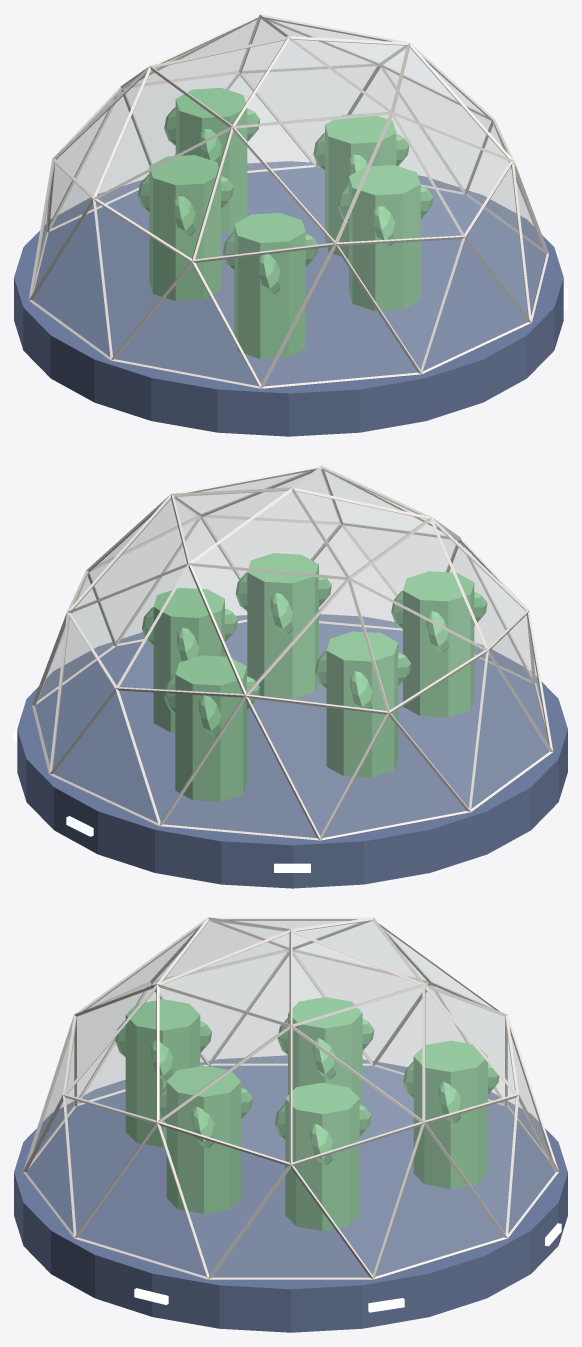
Rendered from greenhouse_module.glb.
3 views of the same model, one above another, from view 1: azimuth 30°, elevation 25°; view 2: azimuth 150°, elevation 25°; view 3: azimuth 270°, elevation 25° (orthographic).
Parts seen in each view (by area): view 1: Icosphere, Cylinder, Greenhouse_Struts, Cylinder.004, Cylinder.005, Cylinder.003, Cylinder.002, Cylinder.001, Sphere.008, Sphere.011, Sphere.014, Sphere.005; view 2: Icosphere, Cylinder, Greenhouse_Struts, Cylinder.003, Cylinder.004, Cylinder.005, Cylinder.002, Cylinder.001, Sphere.013, Sphere.004, Sphere.007, Sphere.010 (+1 smaller); view 3: Icosphere, Cylinder, Greenhouse_Struts, Cylinder.005, Cylinder.001, Cylinder.002, Cylinder.004, Cylinder.003, Sphere.003, Sphere, Sphere.012, Sphere.006 (+1 smaller).
Part boxes in pixels (left/top/right/bottom): Icosphere: left=32, top=18, right=546, bottom=385; Cylinder: left=14, top=161, right=563, bottom=436; Greenhouse_Struts: left=28, top=14, right=548, bottom=388; Cylinder.004: left=234, top=213, right=305, bottom=358; Cylinder.005: left=349, top=165, right=420, bottom=311; Cylinder.003: left=149, top=155, right=220, bottom=300; Cylinder.002: left=175, top=88, right=247, bottom=232; Cylinder.001: left=325, top=113, right=396, bottom=258; Sphere.008: left=172, top=196, right=196, bottom=236; Sphere.011: left=257, top=254, right=281, bottom=294; Sphere.014: left=372, top=206, right=396, bottom=246; Sphere.005: left=199, top=129, right=222, bottom=166; Icosphere: left=34, top=469, right=549, bottom=837; Cylinder: left=17, top=614, right=567, bottom=888; Greenhouse_Struts: left=32, top=465, right=553, bottom=840; Cylinder.003: left=326, top=631, right=398, bottom=777; Cylinder.004: left=403, top=571, right=474, bottom=717; Cylinder.005: left=247, top=553, right=318, bottom=699; Cylinder.002: left=175, top=655, right=246, bottom=801; Cylinder.001: left=153, top=587, right=224, bottom=732; Sphere.013: left=270, top=593, right=294, bottom=634; Sphere.004: left=198, top=695, right=222, bottom=736; Sphere.007: left=349, top=671, right=373, bottom=712; Sphere.010: left=426, top=611, right=450, bottom=652; Icosphere: left=26, top=919, right=555, bottom=1277; Cylinder: left=14, top=1055, right=567, bottom=1332; Greenhouse_Struts: left=23, top=917, right=558, bottom=1279; Cylinder.005: left=166, top=1065, right=241, bottom=1213; Cylinder.001: left=285, top=1082, right=359, bottom=1230; Cylinder.002: left=413, top=1040, right=487, bottom=1188; Cylinder.004: left=125, top=999, right=200, bottom=1147; Cylinder.003: left=288, top=997, right=362, bottom=1105; Sphere.003: left=438, top=1081, right=462, bottom=1123; Sphere: left=309, top=1123, right=333, bottom=1165; Sphere.012: left=191, top=1106, right=215, bottom=1148; Sphere.006: left=312, top=1038, right=337, bottom=1079.
Size of the model in its own units: 5.2 by 2.97 by 5.2.
